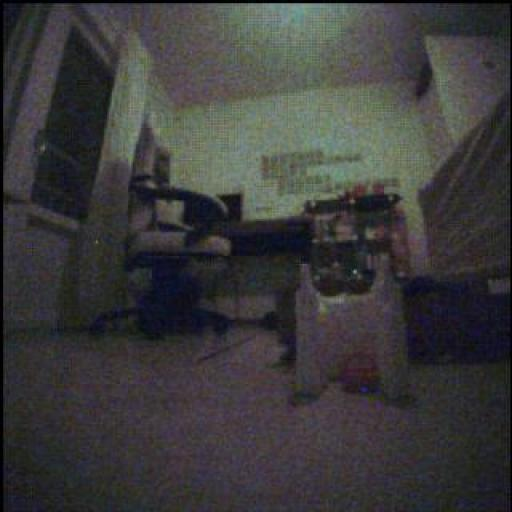basket: (342, 353, 380, 395)
